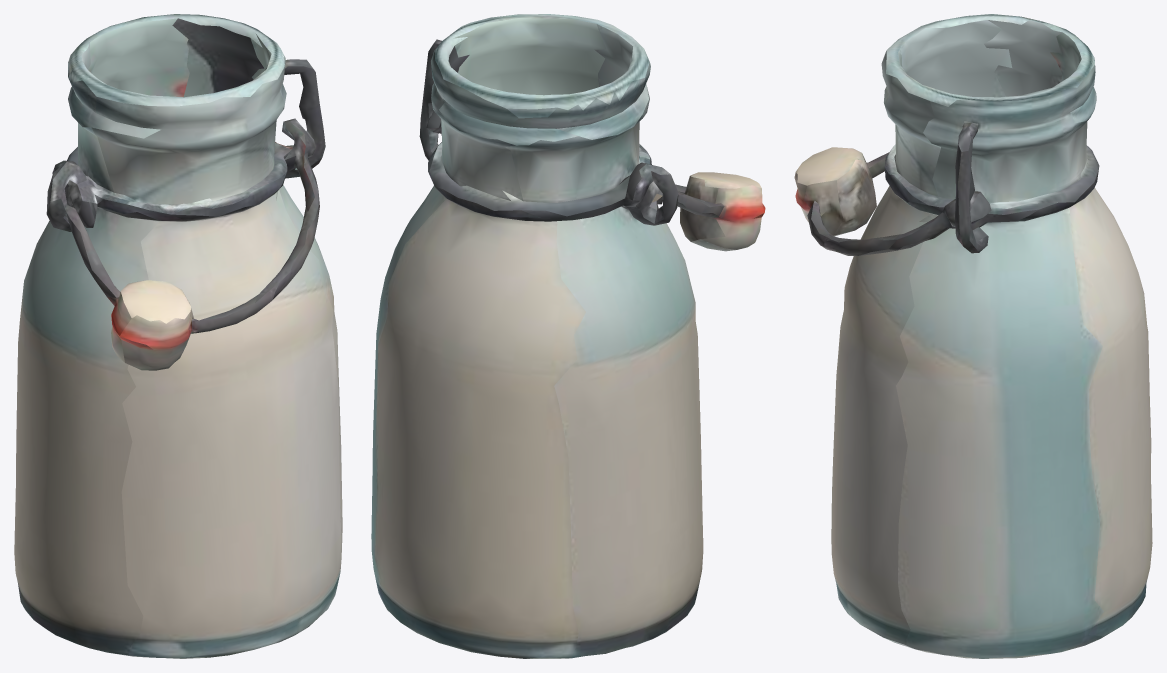
Rendered from milk_l.glb.
3 renders of one model, left to right at view 1: azimuth 30°, elevation 25°; view 2: azimuth 150°, elevation 25°; view 3: azimuth 270°, elevation 25°, orthographic.
Visible parts, largest first — view 1: item_milk_l; view 2: item_milk_l; view 3: item_milk_l.
Boxes of the visible parts, box(x1,y1,x2,y2) form: item_milk_l: box(14, 14, 342, 658); item_milk_l: box(371, 14, 765, 658); item_milk_l: box(794, 14, 1152, 658).
Size of the model in its own units: 0.5575 by 1 by 0.6044.
Materials: 1 (1 with a texture image).
